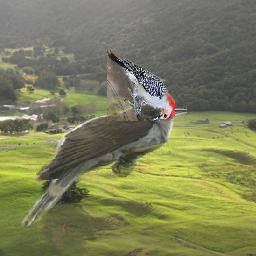Cuckoo: (21, 104, 187, 229)
Woodpecker: (107, 51, 175, 122)
